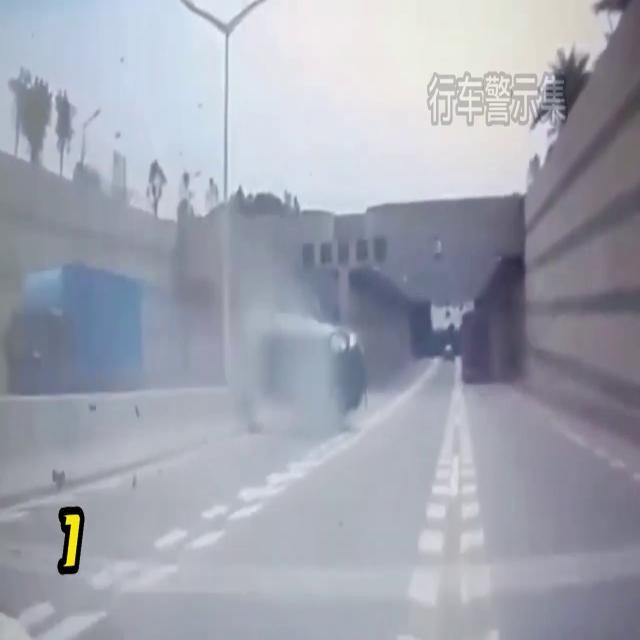single accident: (236, 306, 390, 447)
